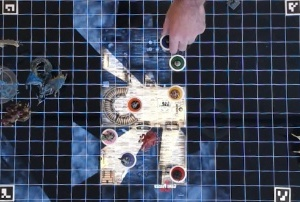blue: (159, 33, 177, 51)
green: (167, 53, 187, 71)
orange: (124, 96, 143, 112)
pink: (103, 126, 118, 144)
red: (171, 163, 187, 183)
violet: (121, 150, 138, 169)
yellow: (167, 83, 185, 101)
